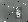person: (16, 8, 23, 20)
